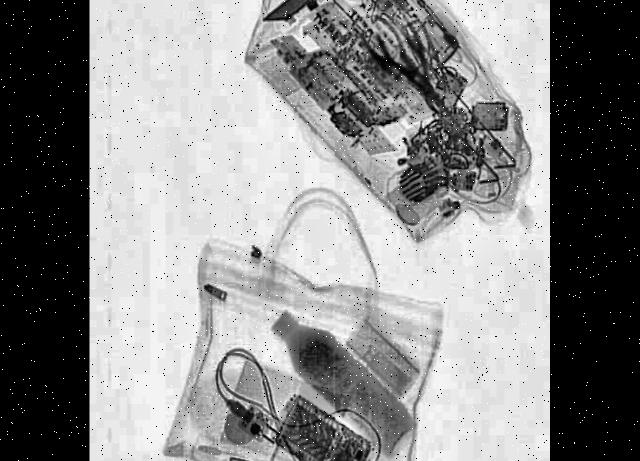Pliers: (371, 5, 454, 130)
